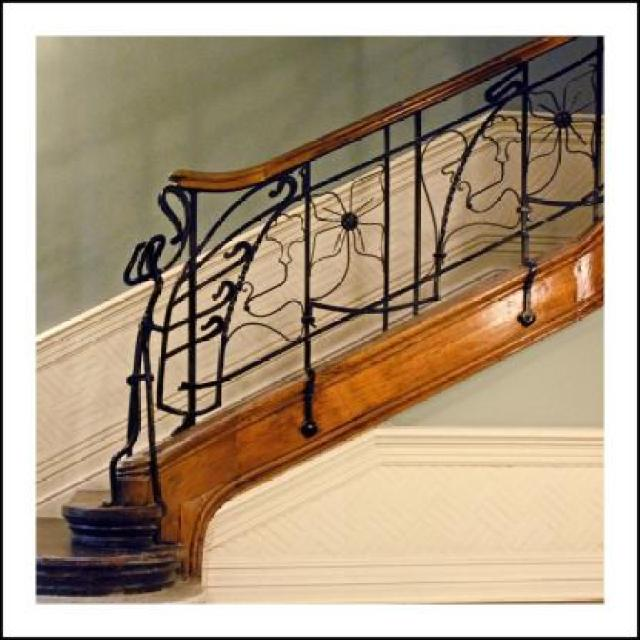stair: (19, 488, 186, 598)
